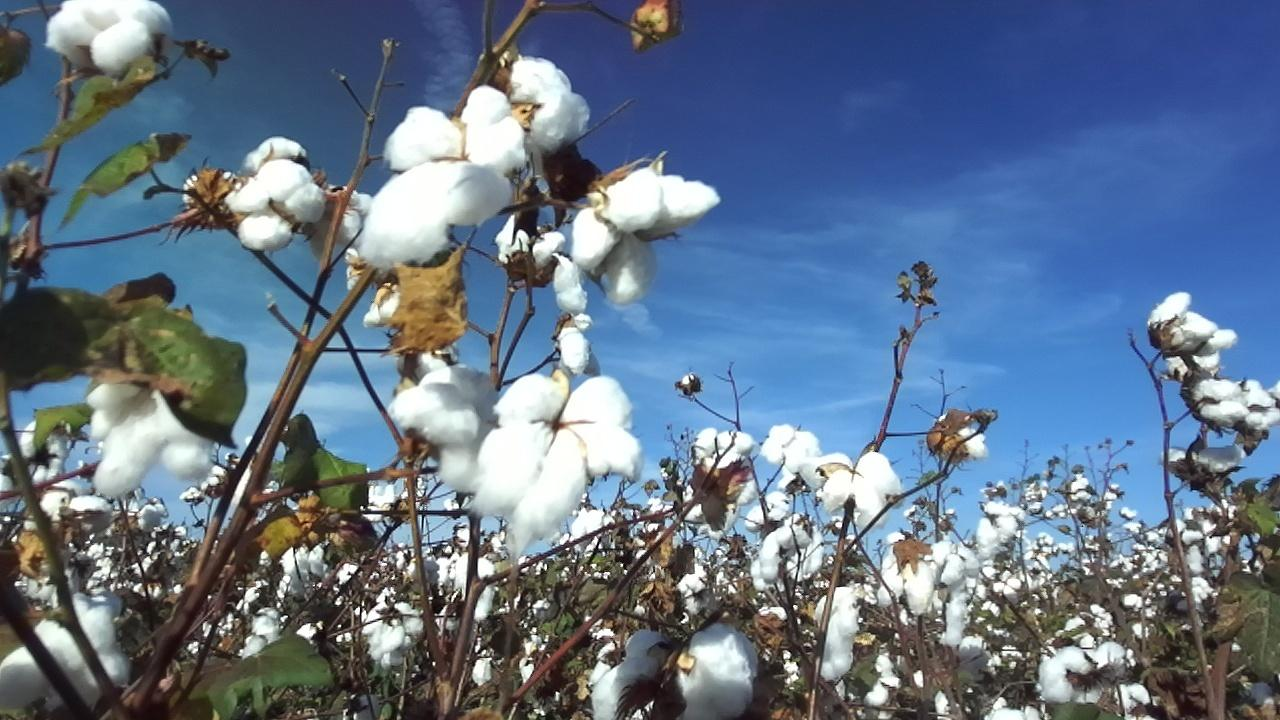cotton_ready: (471, 374, 645, 558), (359, 85, 529, 265), (575, 170, 724, 303), (0, 594, 132, 720), (593, 624, 759, 720), (388, 352, 501, 491), (89, 380, 217, 498), (236, 132, 327, 251), (45, 0, 175, 75), (507, 57, 592, 147), (798, 450, 900, 515), (877, 530, 950, 611), (1152, 295, 1236, 358), (530, 224, 587, 312), (311, 184, 372, 263), (361, 590, 425, 659), (813, 587, 859, 680), (1042, 642, 1105, 702), (277, 537, 332, 601), (182, 173, 239, 227), (555, 311, 599, 375), (937, 410, 992, 459), (495, 214, 533, 284), (1165, 445, 1245, 475), (360, 282, 410, 327), (1242, 380, 1280, 431), (1197, 378, 1241, 417)
